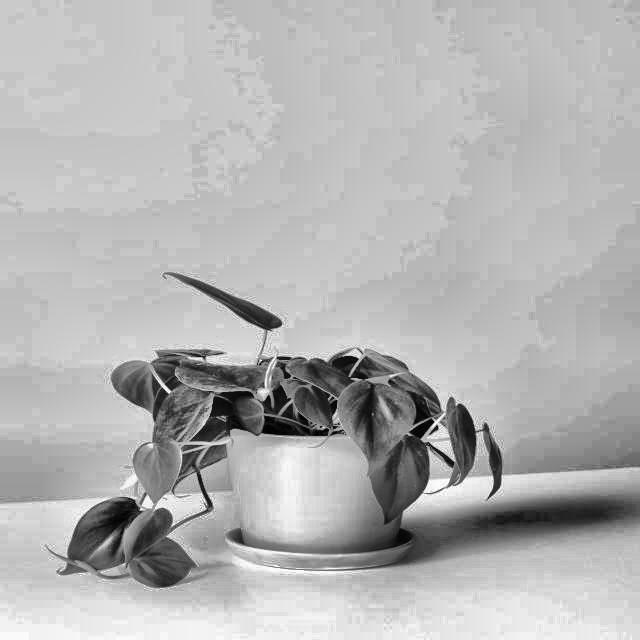plants: (44, 255, 512, 602)
